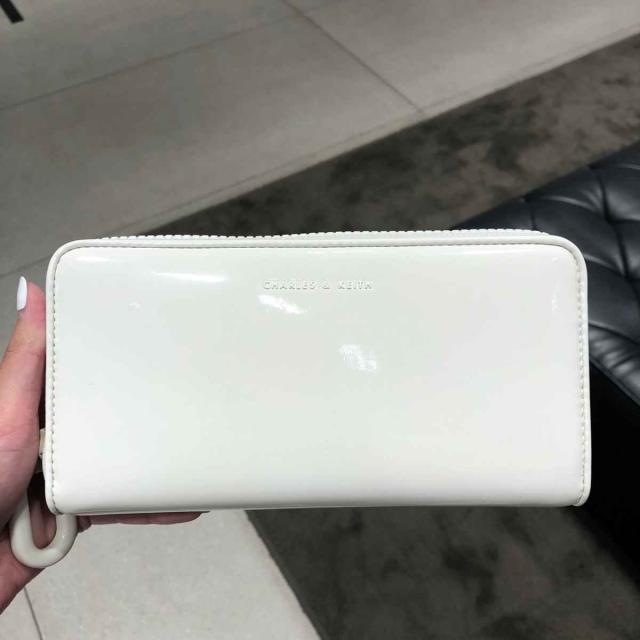Handbag: (40, 228, 592, 516)
